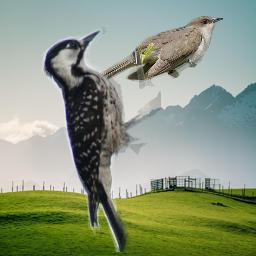Cuckoo: (76, 15, 223, 94)
Woodpecker: (41, 26, 161, 252)
